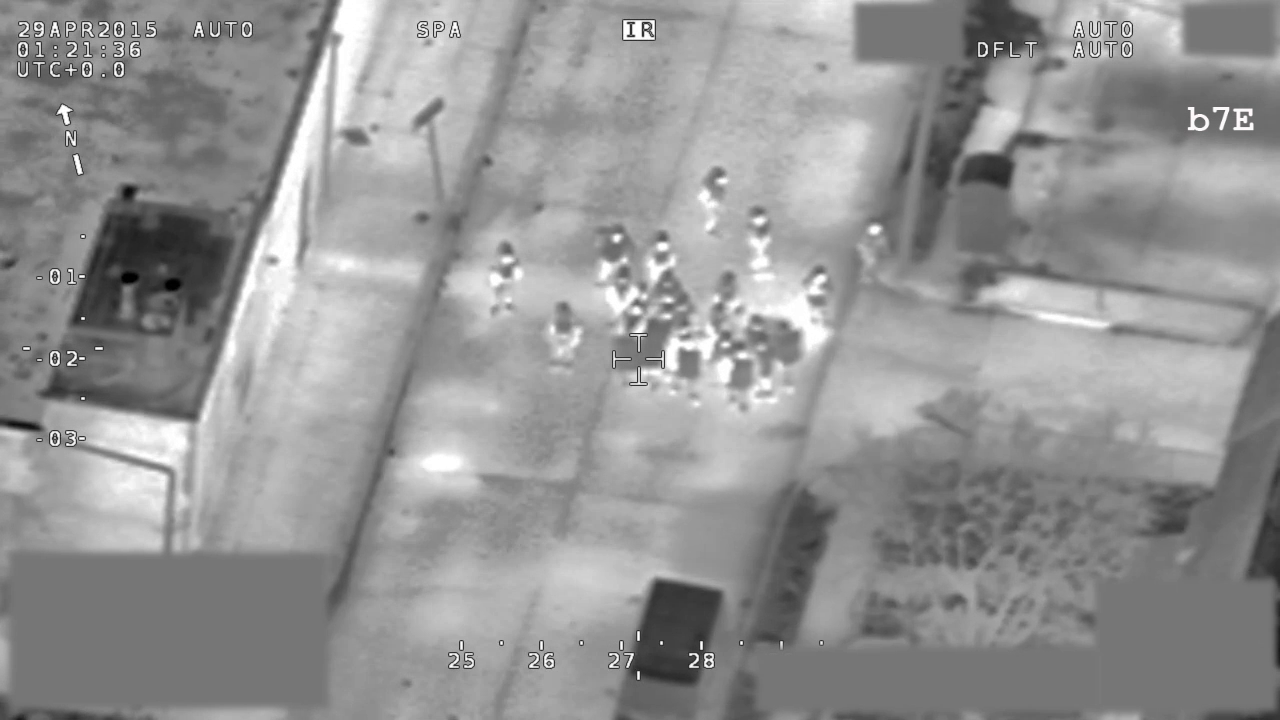vehicle: (605, 574, 732, 720)
